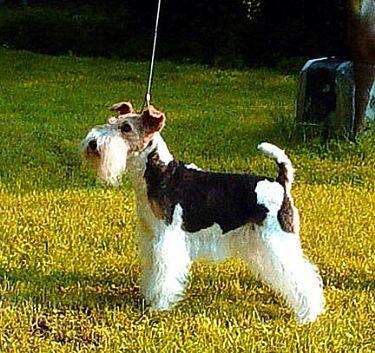wire-haired_fox_terrier: (81, 99, 329, 325)
